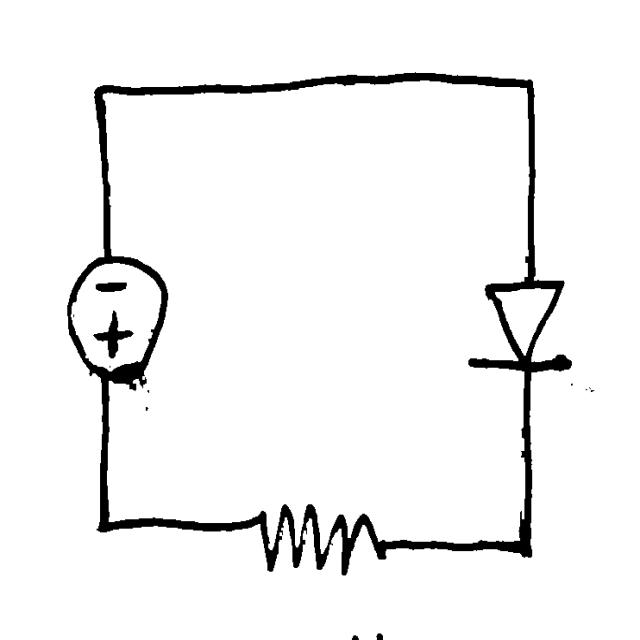dc: (50, 246, 176, 395)
diode: (456, 267, 587, 390)
resistor: (237, 497, 394, 585)
